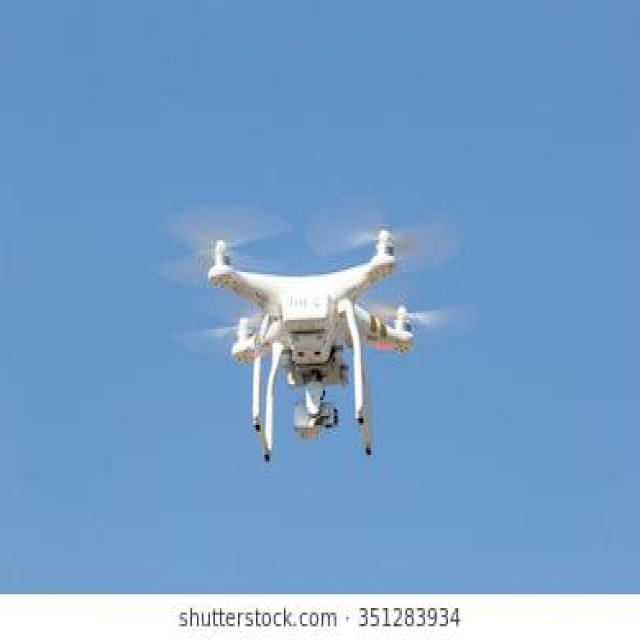drone: (159, 188, 466, 476)
